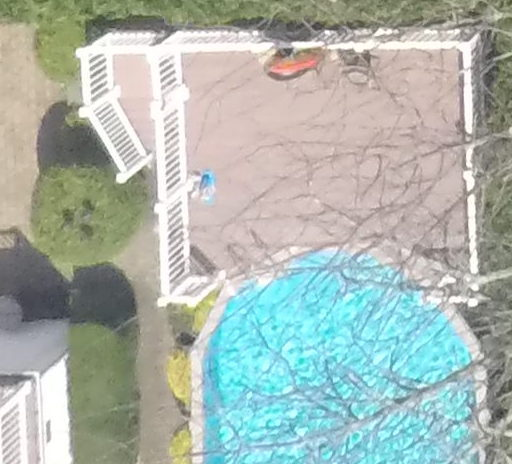pool: (192, 236, 495, 464)
